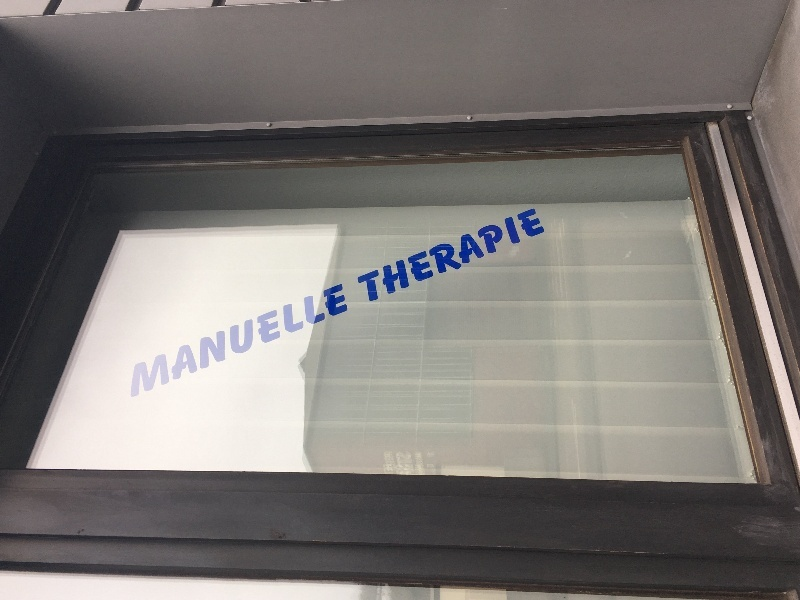text: (129, 279, 144, 402), (145, 279, 160, 402), (161, 279, 176, 402), (177, 279, 192, 402), (193, 279, 208, 402), (209, 279, 224, 402), (225, 279, 240, 402), (241, 279, 256, 402), (257, 279, 272, 402), (273, 279, 288, 402), (289, 279, 304, 402), (305, 279, 320, 402), (321, 279, 336, 402), (337, 279, 351, 402), (369, 208, 384, 306), (385, 208, 400, 306), (401, 208, 416, 306), (417, 208, 432, 306), (433, 208, 448, 306), (449, 208, 464, 306), (465, 208, 480, 306), (481, 208, 496, 306), (497, 208, 512, 306), (513, 208, 528, 306), (529, 208, 544, 306), (357, 208, 368, 306), (385, 452, 400, 475), (401, 452, 416, 475), (417, 452, 432, 475), (545, 208, 547, 306), (433, 452, 436, 475), (383, 452, 384, 475)
